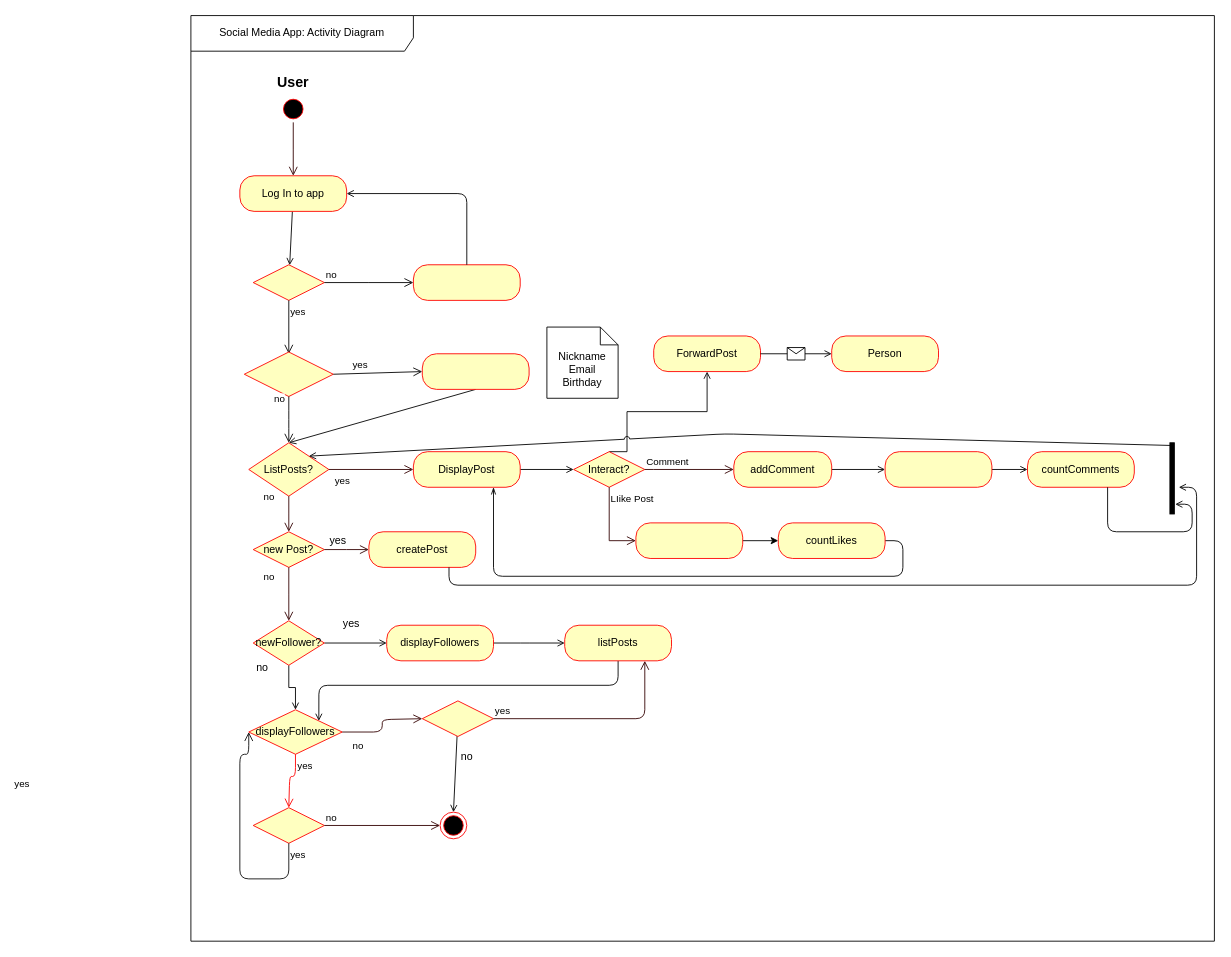
Some shapes in this 1231 by 957 pixel diagram are drawn without their labels. The box of each missing label's shape, as (x1, y1, x2, y2) in pixels:
Correct: (252, 264, 324, 300)
Display Error: (413, 264, 520, 300)
displayComment(): (884, 451, 992, 487)
follow: (421, 700, 494, 736)
newLike: (635, 522, 743, 558)
unfollow: (252, 807, 324, 843)
Update Account Details: (421, 353, 529, 389)
Update Account?: (243, 351, 333, 396)
